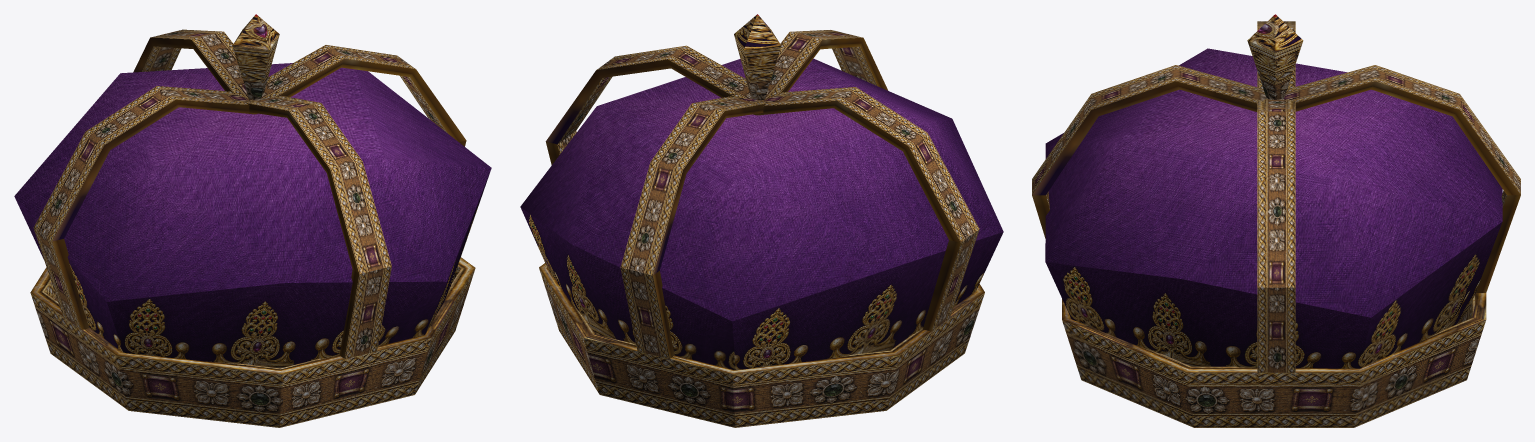
Rendered from mm9_deco_cronakiga.glb.
3 renders of one model, left to right at view 1: azimuth 30°, elevation 25°; view 2: azimuth 150°, elevation 25°; view 3: azimuth 270°, elevation 25°, orthographic. The views are drawn at different scales.
Parts seen in each view (by area): view 1: Cronakiga; view 2: Cronakiga; view 3: Cronakiga.
Boxes of the visible parts, x1=… form: Cronakiga: x1=14, y1=14, x2=491, y2=427; Cronakiga: x1=520, y1=14, x2=1003, y2=427; Cronakiga: x1=1032, y1=14, x2=1520, y2=427.
Bounding box in the file's own units: 0.3411 × 0.2574 × 0.3411.
2 materials, 2 textured.
